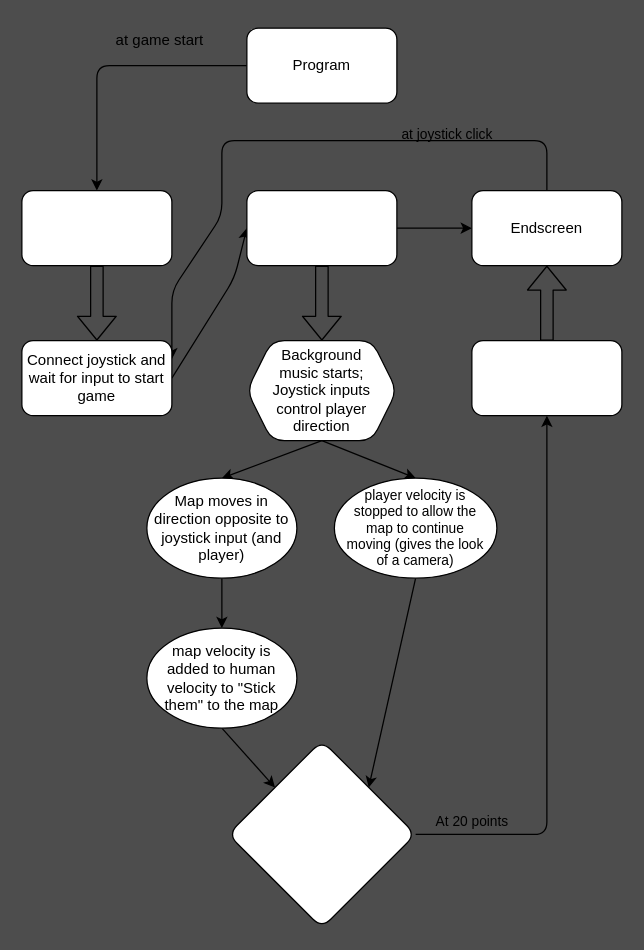
This 644x950 diagram has some shape labels left out. Here are the shapes that lost their labels. From the top down, the centre of each, then its label:
point 96,227: Start Screen
point 321,227: Game
point 546,377: Timer, score, music, and positions of sprites are reset
point 321,833: humans are removed, eating sound is played when they collide wuth the player
